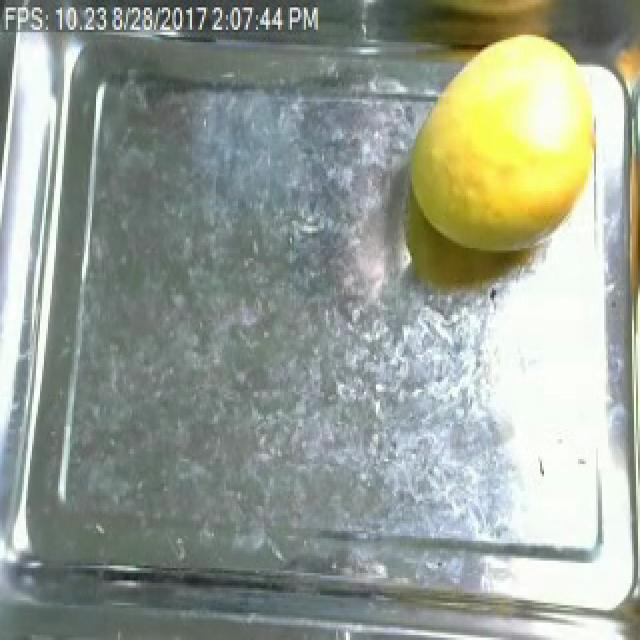fruit: (396, 28, 608, 266)
